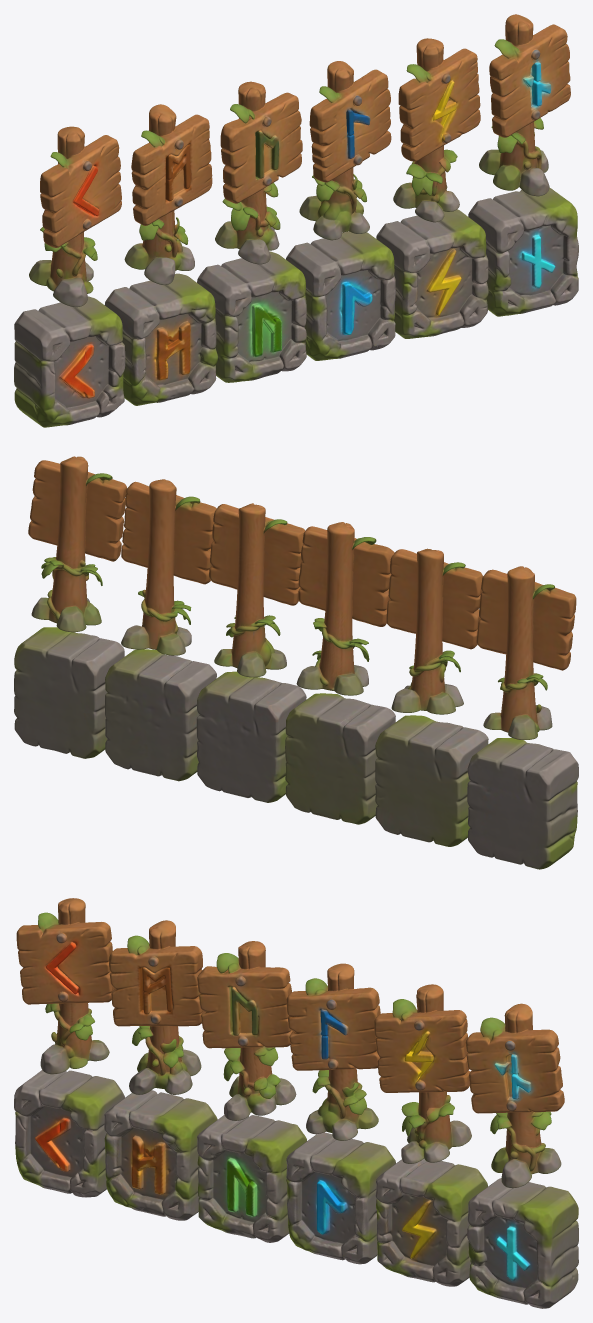
Rendered from fantasy+rune+signs+3d+model.glb.
The picture shows the model from 3 angles, top to bottom: view 1: azimuth 30°, elevation 25°; view 2: azimuth 150°, elevation 25°; view 3: azimuth 330°, elevation 25°; orthographic projection.
Visible parts, largest first — view 1: tripo_node_edf3e621-4921-498a-b2fd-ea9995efed8e; view 2: tripo_node_edf3e621-4921-498a-b2fd-ea9995efed8e; view 3: tripo_node_edf3e621-4921-498a-b2fd-ea9995efed8e.
Boxes of the visible parts, left/top/right/bottom form: tripo_node_edf3e621-4921-498a-b2fd-ea9995efed8e: left=14, top=14, right=578, bottom=427; tripo_node_edf3e621-4921-498a-b2fd-ea9995efed8e: left=14, top=456, right=578, bottom=869; tripo_node_edf3e621-4921-498a-b2fd-ea9995efed8e: left=14, top=898, right=578, bottom=1308.
Size of the model in its own units: 1 by 0.5057 by 0.127.
1 material, 1 textured.
